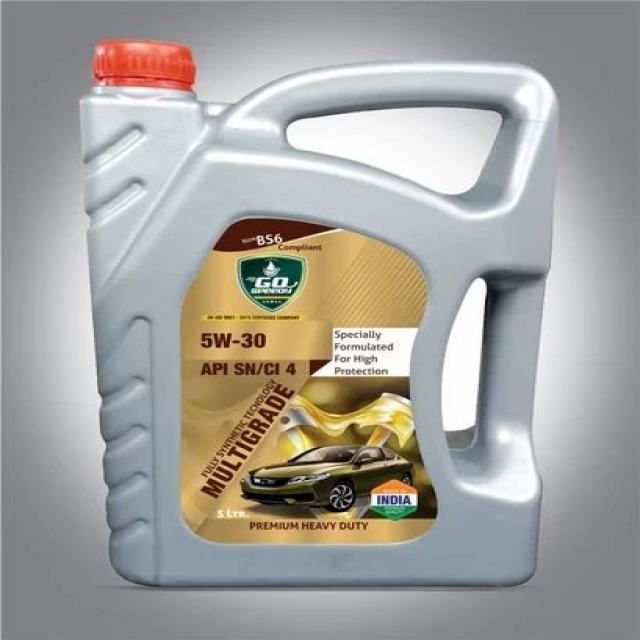motor_oil: (76, 32, 567, 593)
